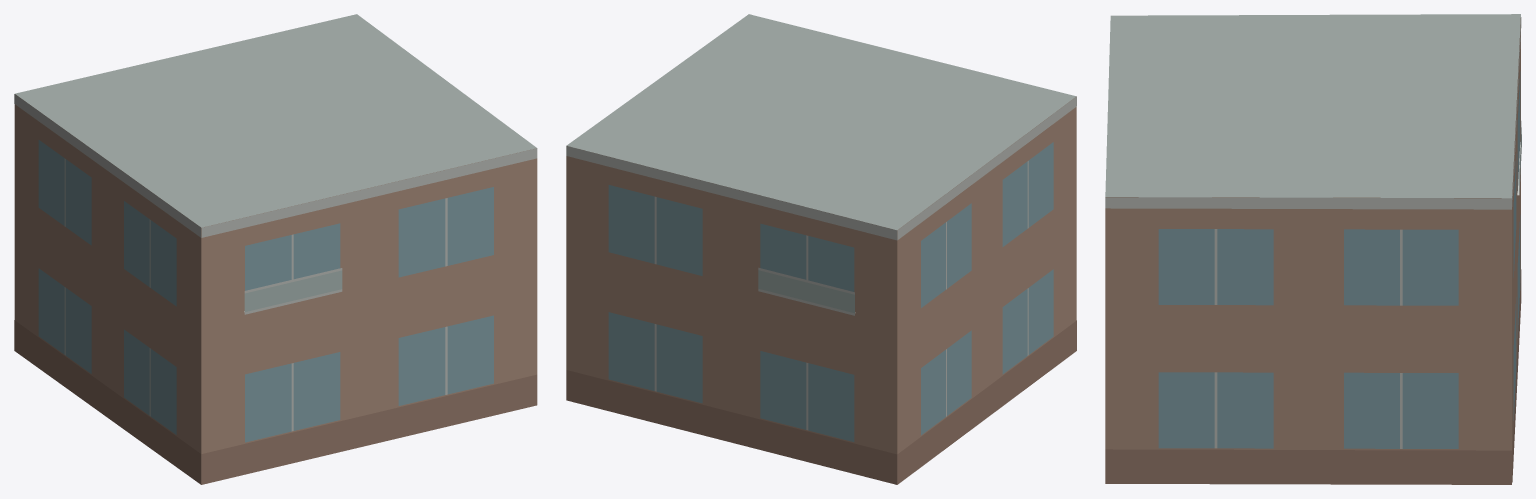
Rendered from survey-upis-32870477.glb.
3 renders of one model, left to right at view 1: azimuth 30°, elevation 25°; view 2: azimuth 150°, elevation 25°; view 3: azimuth 270°, elevation 25°, orthographic. The views are drawn at different scales.
Visible parts, largest first — view 1: survey-upis-32870477.tmp; view 2: survey-upis-32870477.tmp; view 3: survey-upis-32870477.tmp.
Boxes of the visible parts, <box> form: survey-upis-32870477.tmp: <box>14,14,537,484</box>; survey-upis-32870477.tmp: <box>566,14,1076,484</box>; survey-upis-32870477.tmp: <box>1105,14,1521,484</box>.
Size of the model in its own units: 8.41 by 6.1 by 8.04.
